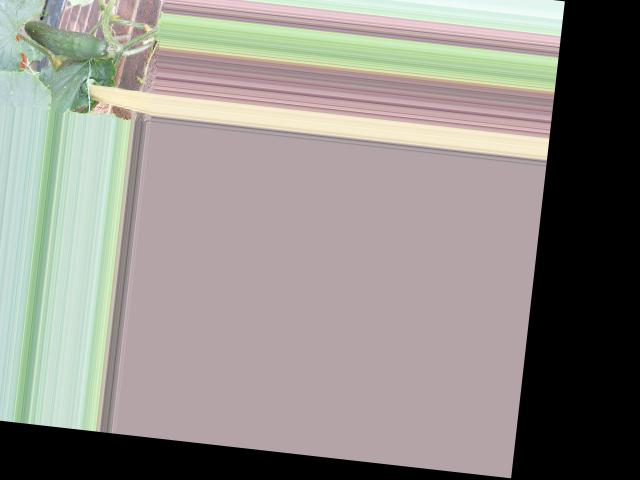cucumber: (21, 18, 111, 61)
